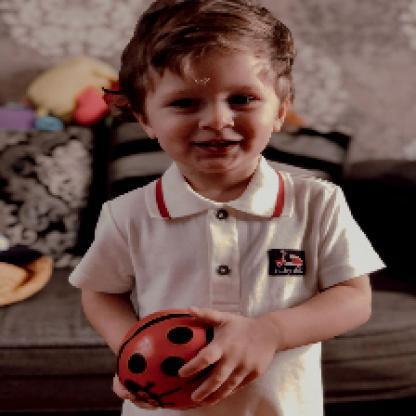child: (68, 1, 391, 415)
